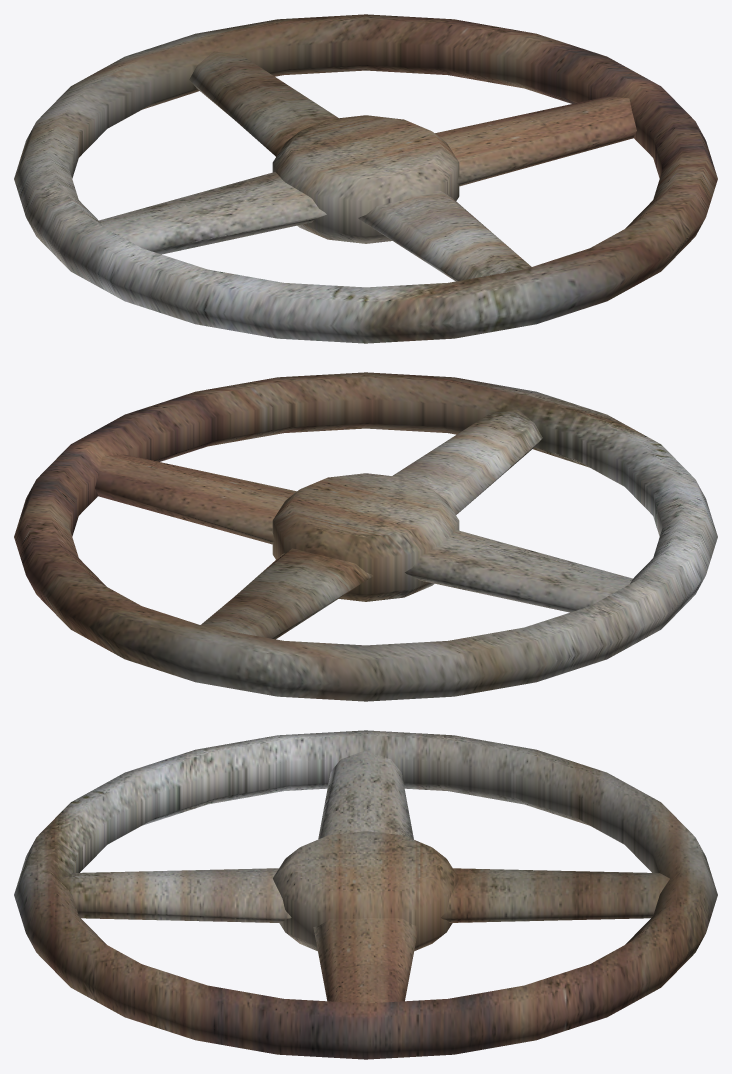
The model's file is valves.obj.
The picture shows the model from 3 angles, top to bottom: view 1: azimuth 30°, elevation 25°; view 2: azimuth 150°, elevation 25°; view 3: azimuth 270°, elevation 25°; orthographic projection.
Parts seen in each view (by area): view 1: valves.obj; view 2: valves.obj; view 3: valves.obj.
Boxes of the visible parts, x1,y1,x2,y2 form: valves.obj: (14, 14, 717, 343); valves.obj: (14, 372, 717, 701); valves.obj: (14, 730, 717, 1059).
Size of the model in its own units: 1.37 by 0.1378 by 1.37.
1 material, 1 textured.
